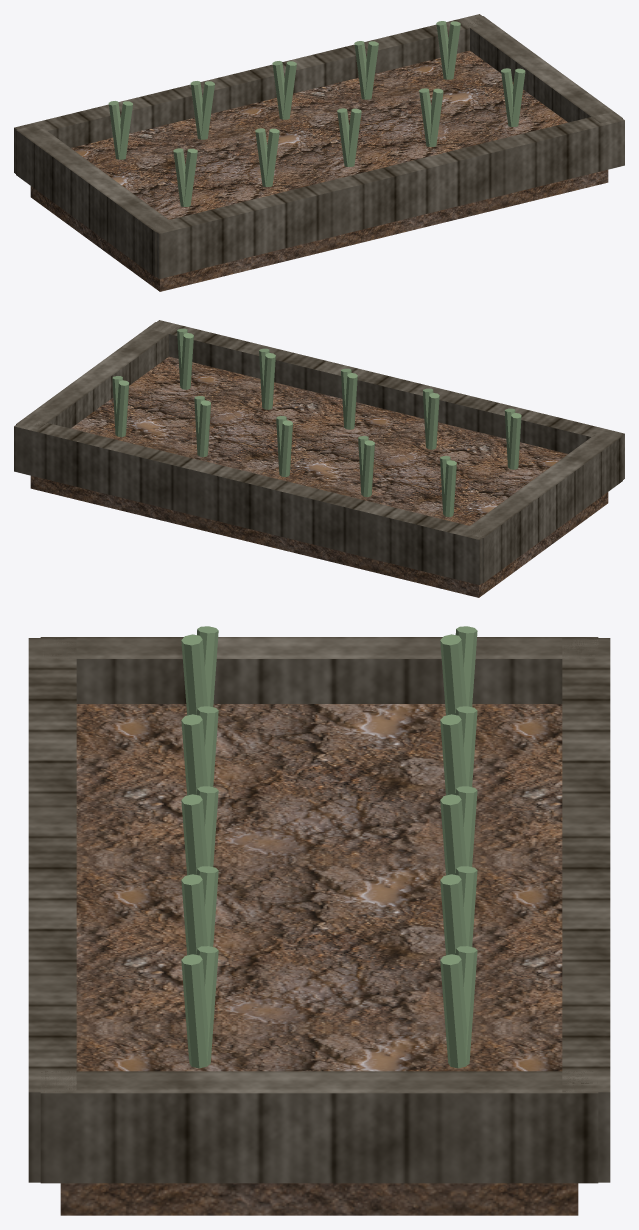
Rendered from gemuesebeet_moehren.glb.
3 views of the same model, one above another, from view 1: azimuth 30°, elevation 25°; view 2: azimuth 150°, elevation 25°; view 3: azimuth 270°, elevation 25° (orthographic). The views are drawn at different scales.
Visible parts, largest first — view 1: gemuesebeet_moehren_000, gemuesebeet_moehren_002, gemuesebeet_moehren_001, gemuesebeet_moehren_003, gemuesebeet_moehren_004, gemuesebeet_moehren_010, gemuesebeet_moehren_006, gemuesebeet_moehren_014, gemuesebeet_moehren_018, gemuesebeet_moehren_022, gemuesebeet_moehren_008, gemuesebeet_moehren_012 (+13 smaller); view 2: gemuesebeet_moehren_000, gemuesebeet_moehren_001, gemuesebeet_moehren_002, gemuesebeet_moehren_003, gemuesebeet_moehren_004, gemuesebeet_moehren_011, gemuesebeet_moehren_021, gemuesebeet_moehren_007, gemuesebeet_moehren_009, gemuesebeet_moehren_015, gemuesebeet_moehren_023, gemuesebeet_moehren_013 (+3 smaller); view 3: gemuesebeet_moehren_000, gemuesebeet_moehren_004, gemuesebeet_moehren_003, gemuesebeet_moehren_002, gemuesebeet_moehren_001, gemuesebeet_moehren_022, gemuesebeet_moehren_024, gemuesebeet_moehren_010, gemuesebeet_moehren_014, gemuesebeet_moehren_018, gemuesebeet_moehren_006, gemuesebeet_moehren_016 (+13 smaller).
Part boxes in pixels (box(x1,y1,x2,y2)): gemuesebeet_moehren_000: box(30, 50, 608, 291); gemuesebeet_moehren_002: box(148, 111, 624, 278); gemuesebeet_moehren_001: box(14, 14, 491, 173); gemuesebeet_moehren_003: box(16, 124, 176, 276); gemuesebeet_moehren_004: box(463, 16, 622, 123); gemuesebeet_moehren_010: box(201, 81, 214, 139); gemuesebeet_moehren_006: box(119, 101, 132, 159); gemuesebeet_moehren_014: box(283, 61, 296, 119); gemuesebeet_moehren_018: box(365, 41, 378, 99); gemuesebeet_moehren_022: box(446, 21, 460, 79); gemuesebeet_moehren_008: box(184, 148, 197, 206); gemuesebeet_moehren_012: box(265, 128, 279, 186); gemuesebeet_moehren_000: box(30, 356, 608, 597); gemuesebeet_moehren_001: box(14, 417, 490, 584); gemuesebeet_moehren_002: box(147, 320, 624, 479); gemuesebeet_moehren_003: box(462, 430, 622, 582); gemuesebeet_moehren_004: box(16, 322, 177, 429); gemuesebeet_moehren_011: box(426, 393, 439, 449); gemuesebeet_moehren_021: box(115, 380, 129, 437); gemuesebeet_moehren_007: box(508, 413, 521, 469); gemuesebeet_moehren_009: box(361, 440, 374, 497); gemuesebeet_moehren_015: box(344, 373, 357, 429); gemuesebeet_moehren_023: box(180, 333, 193, 389); gemuesebeet_moehren_013: box(279, 420, 292, 477); gemuesebeet_moehren_000: box(60, 704, 578, 1215); gemuesebeet_moehren_004: box(40, 1071, 598, 1183); gemuesebeet_moehren_003: box(40, 637, 598, 703); gemuesebeet_moehren_002: box(28, 638, 76, 1182); gemuesebeet_moehren_001: box(562, 638, 610, 1182); gemuesebeet_moehren_022: box(440, 954, 466, 1068); gemuesebeet_moehren_024: box(181, 954, 207, 1068); gemuesebeet_moehren_010: box(440, 714, 466, 795); gemuesebeet_moehren_014: box(440, 794, 466, 875); gemuesebeet_moehren_018: box(440, 874, 466, 955); gemuesebeet_moehren_006: box(440, 634, 466, 715); gemuesebeet_moehren_016: box(181, 794, 207, 875).
Size of the model in its own units: 2.71 by 0.5631 by 1.46.
Materials: 2 (2 with a texture image).
